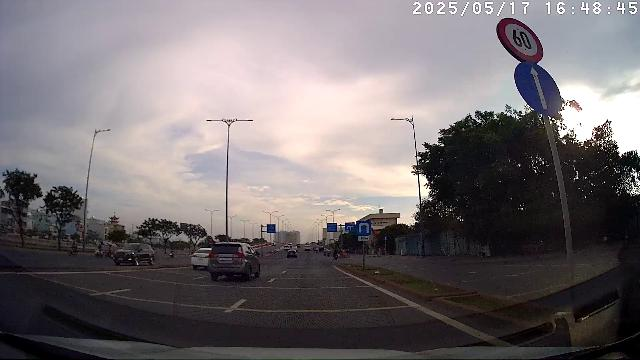127-toc-do-toi-da-60: (496, 17, 544, 61)
301a-cac-xe-chi-duoc-di-thang: (513, 62, 562, 116)
